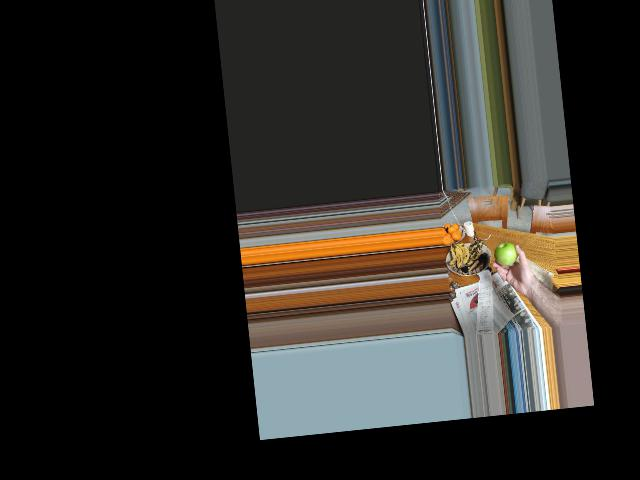apple: (495, 241, 519, 265)
